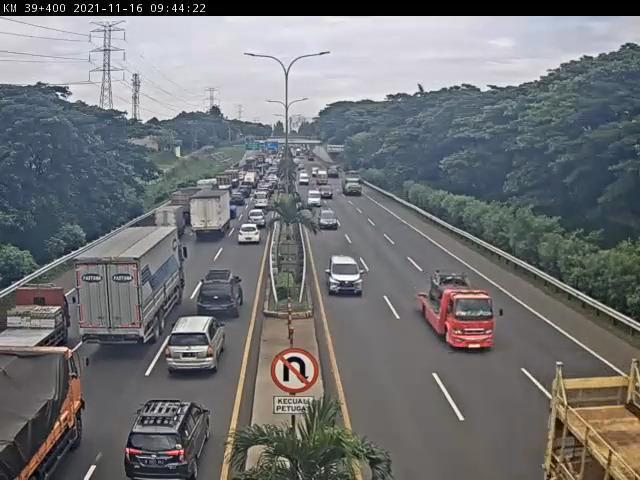car: (126, 399, 213, 480), (166, 317, 228, 377), (198, 268, 245, 318), (326, 255, 365, 297), (239, 224, 264, 244), (321, 209, 342, 231), (251, 211, 268, 228), (254, 192, 270, 210), (308, 190, 323, 208)
truck: (74, 227, 188, 348), (2, 343, 89, 480), (418, 272, 505, 355), (1, 283, 79, 363), (191, 189, 232, 243), (156, 206, 186, 241), (343, 170, 363, 197)
